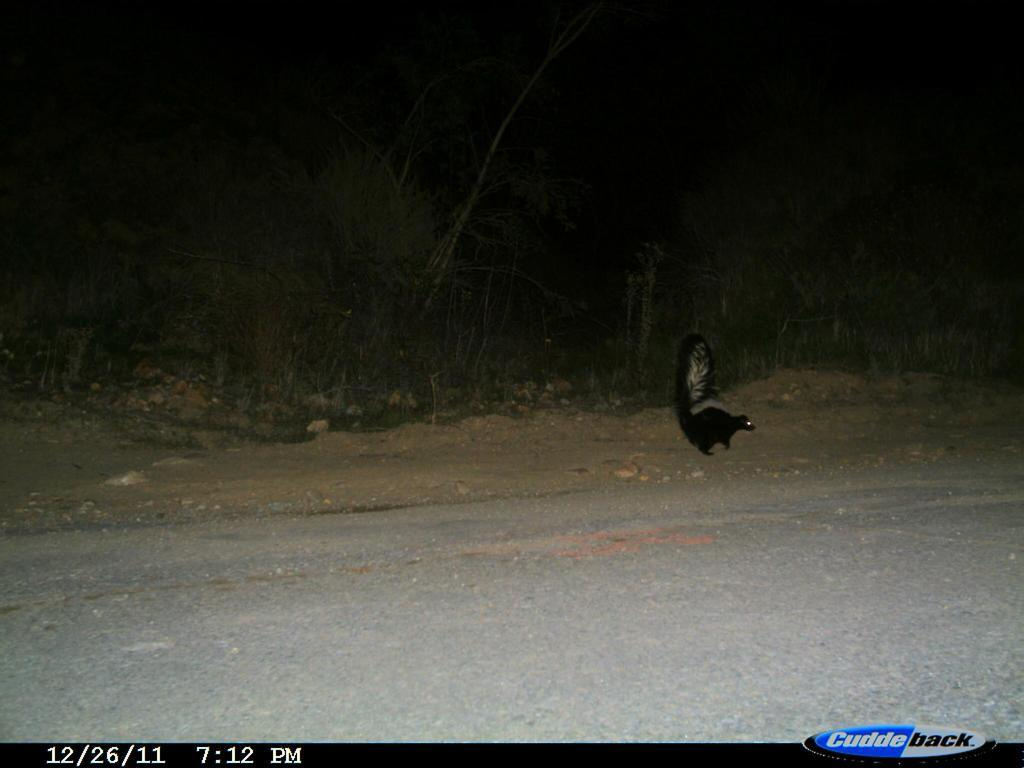skunk: (669, 331, 763, 461)
